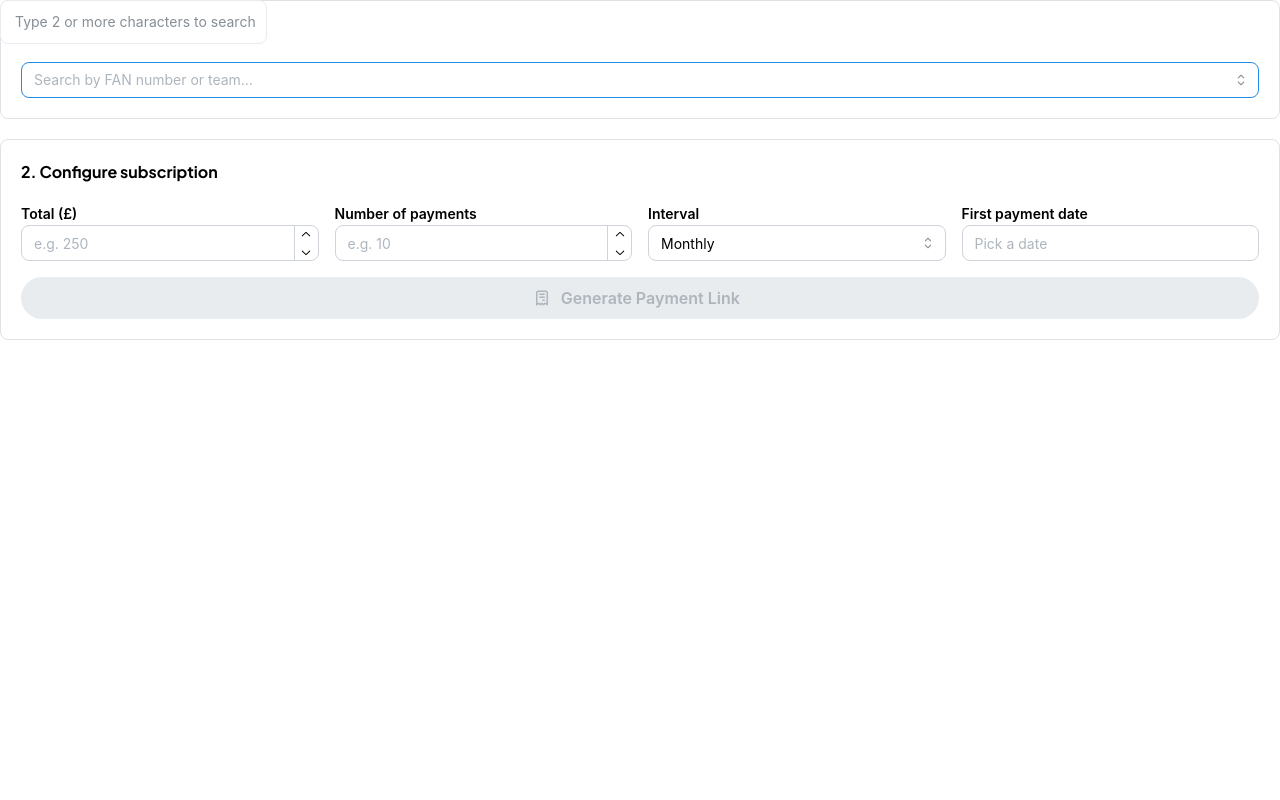
Test: PlayerSubscriptionsTab › shows warning about existing payment records when SUBS payments exist for the selected registration
In the dropdown with placeholder "Search by FAN number or team…": (640,80) [21,62,1259,98], type "12345"
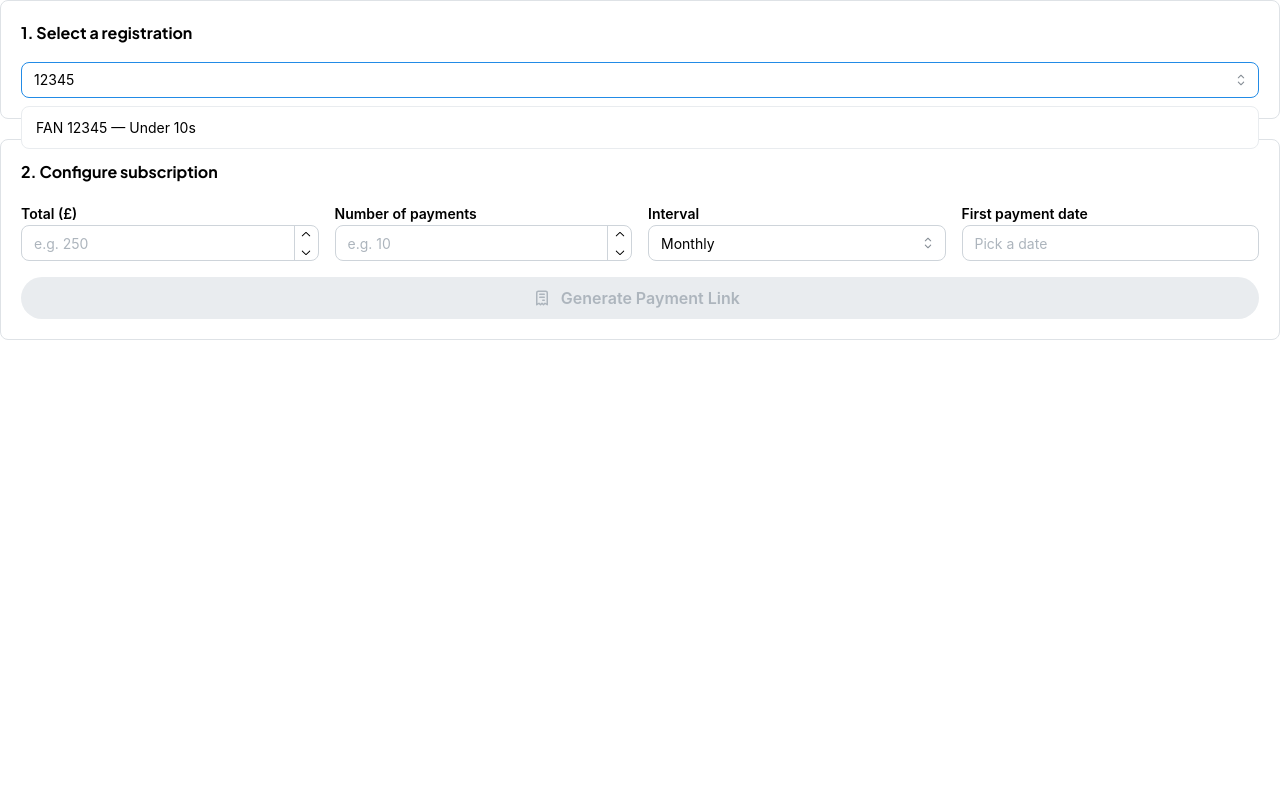
Result: the text "FAN 12345 — Under 10s" is shown
Click the option "FAN 12345 — Under 10s": (116,127) [36,119,196,136]
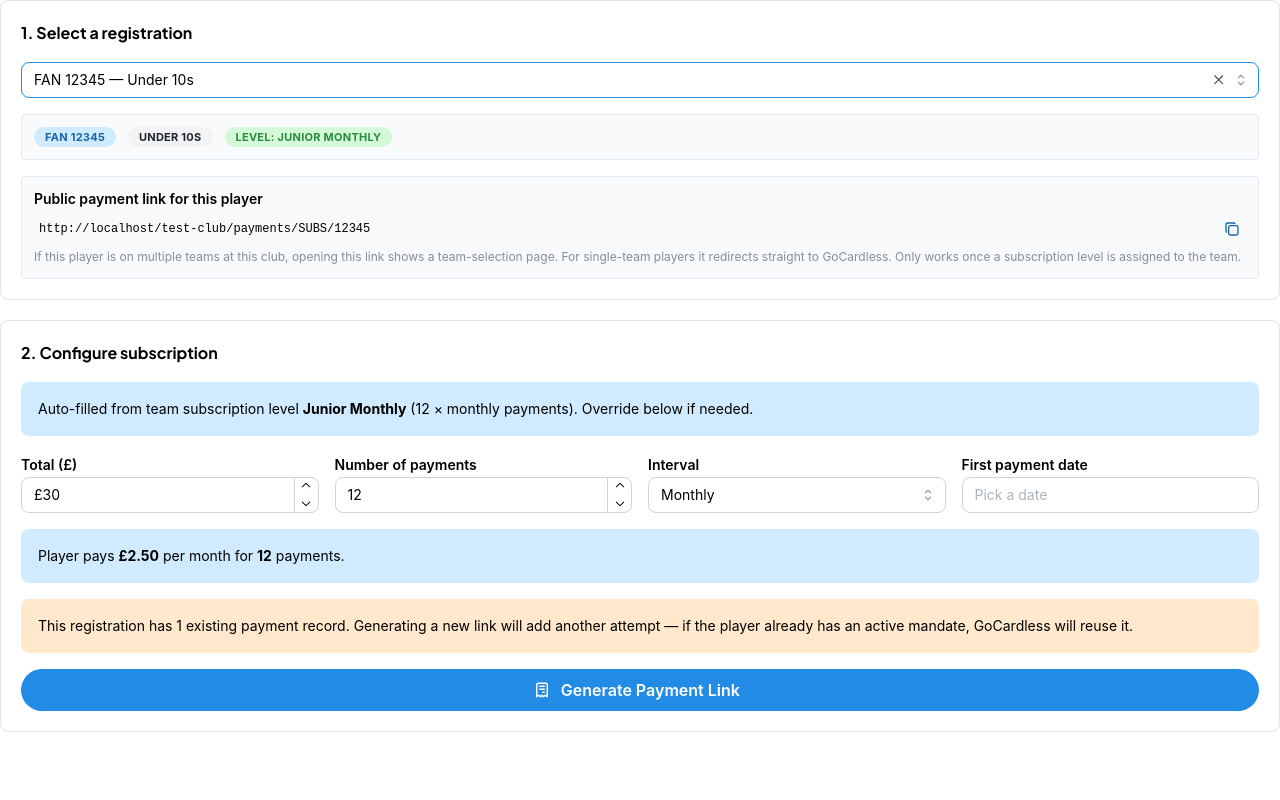
Result: the text "existing payment record" is shown at [182,617,346,634]
